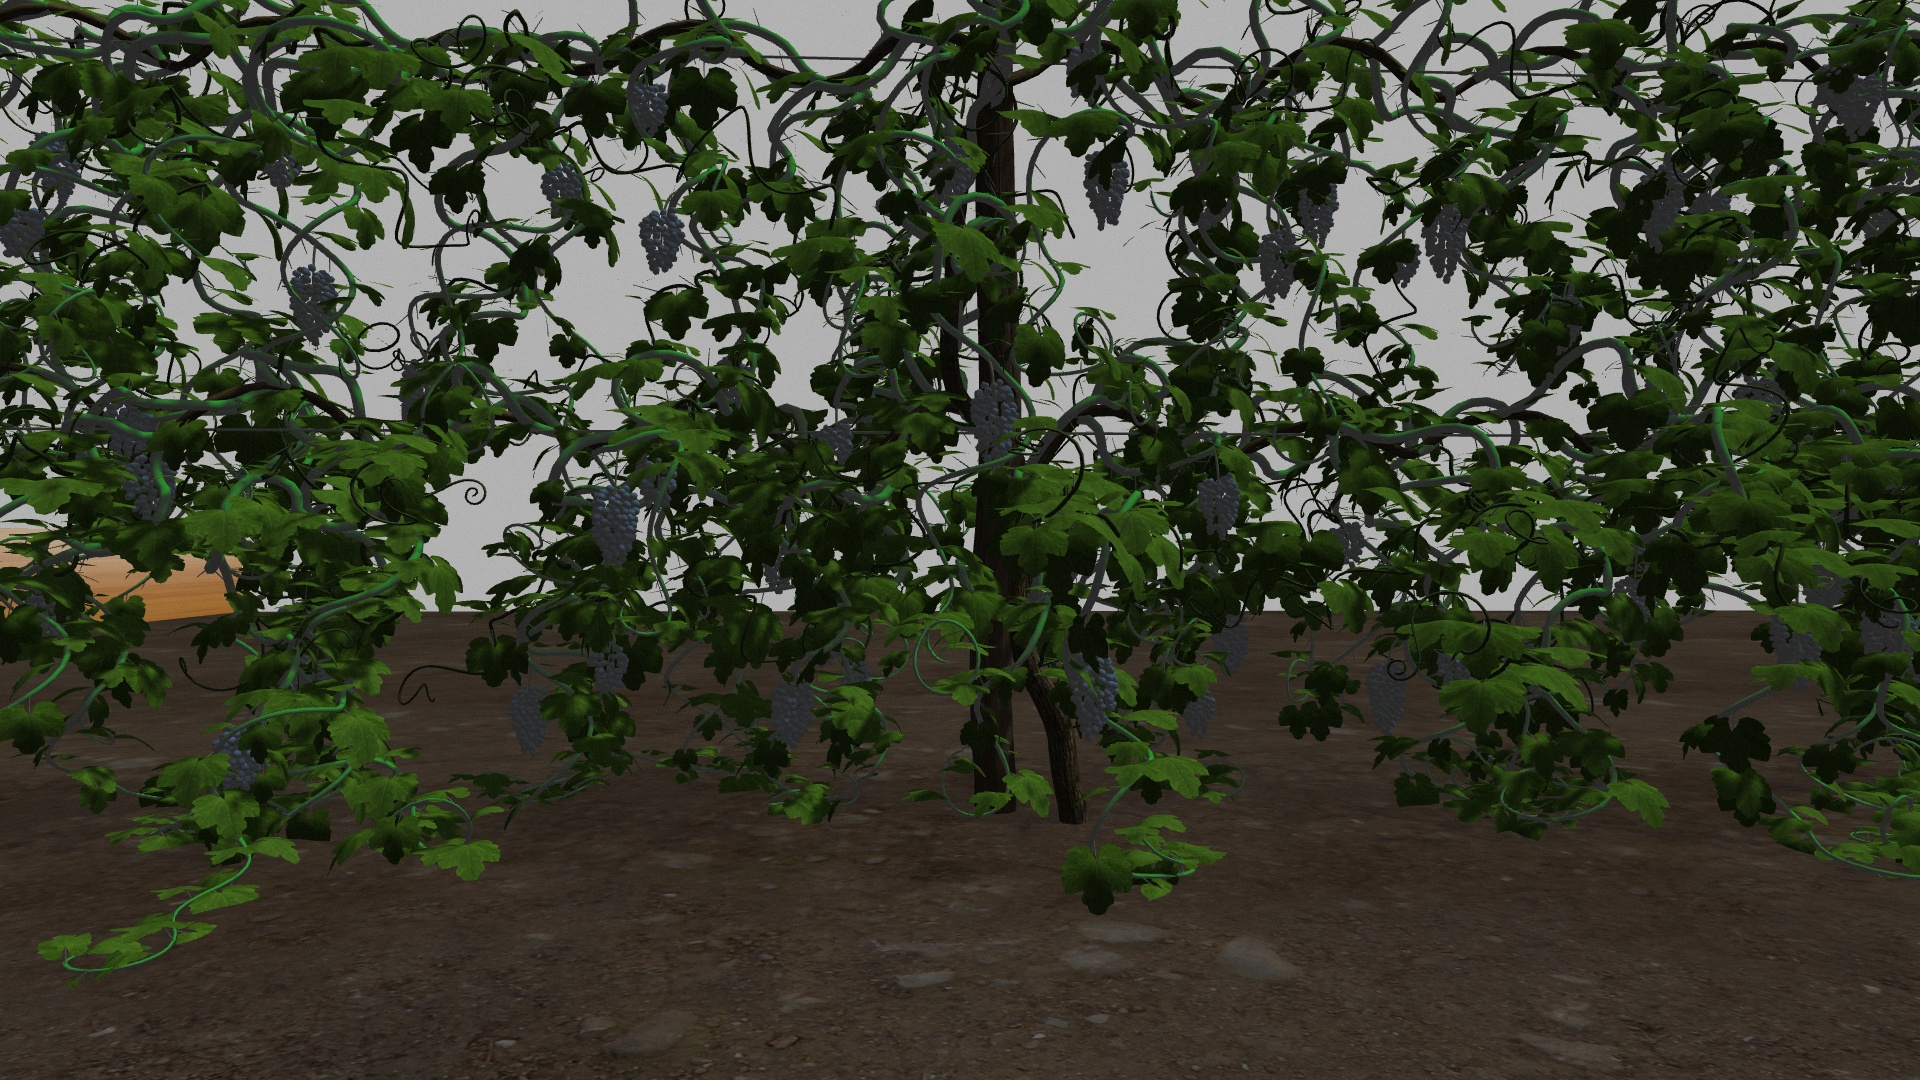grape: (1817, 70, 1883, 141), (286, 265, 342, 347), (1069, 654, 1120, 742), (971, 378, 1018, 465), (1638, 165, 1684, 252), (1083, 152, 1133, 231), (592, 485, 640, 568), (1364, 659, 1410, 738), (1422, 202, 1468, 280), (769, 683, 818, 748), (123, 458, 175, 517), (214, 729, 262, 793), (1259, 229, 1302, 302), (638, 208, 684, 274), (508, 684, 550, 754), (1299, 178, 1340, 249), (1767, 616, 1822, 666), (1199, 476, 1241, 539), (1212, 613, 1251, 679), (626, 79, 669, 138), (589, 644, 630, 699), (111, 407, 156, 455), (1858, 613, 1904, 658), (541, 167, 583, 215), (5, 210, 47, 256), (1184, 690, 1218, 742), (818, 421, 855, 463), (1331, 521, 1367, 560), (266, 158, 303, 190)
